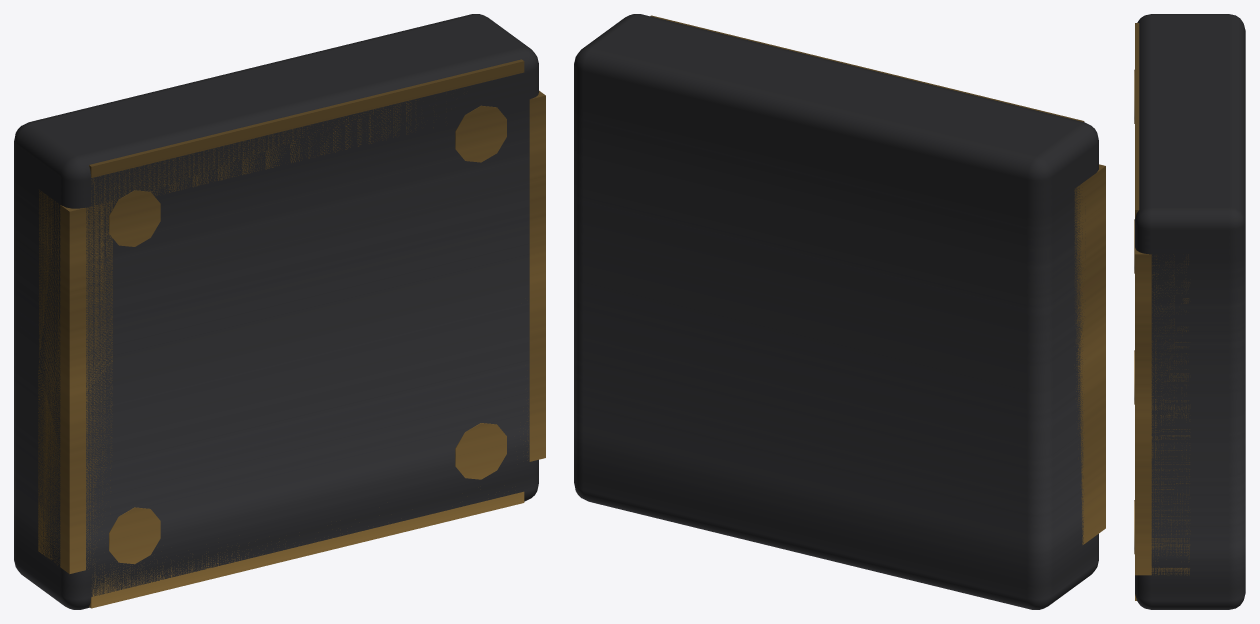
File: double-slit.glb
3 renders of one model, left to right at view 1: azimuth 30°, elevation 25°; view 2: azimuth 150°, elevation 25°; view 3: azimuth 270°, elevation 25°, orthographic. The views are drawn at different scales.
Parts seen in each view (by area): view 1: double-slit; view 2: double-slit; view 3: double-slit.
Boxes of the visible parts, x1=… form: double-slit: x1=14, y1=14, x2=545, y2=609; double-slit: x1=574, y1=14, x2=1105, y2=609; double-slit: x1=1134, y1=14, x2=1245, y2=609.
Bounding box in the file's own units: 0.044 × 0.04 × 0.0101.
Materials: 1 (1 with a texture image).
